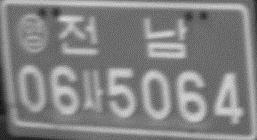0: (139, 68, 174, 120), (16, 64, 47, 113)
4: (212, 72, 244, 125)
5: (106, 67, 136, 118)
6: (174, 69, 208, 124), (48, 64, 80, 115)
사: (80, 70, 105, 115)
영: (17, 13, 50, 53)
전남_D: (56, 13, 188, 60)
